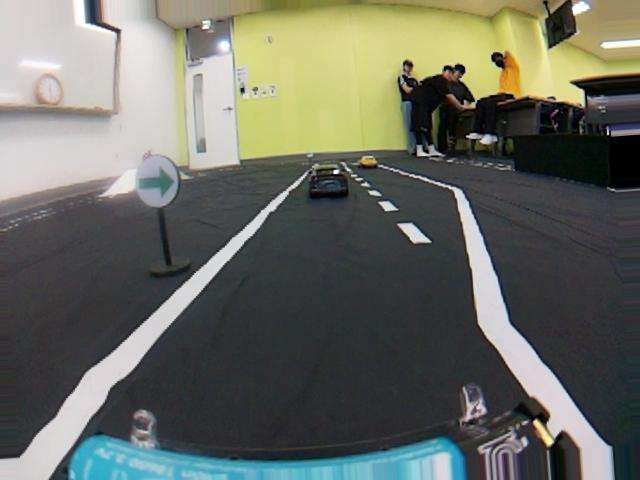car: (306, 162, 350, 199)
sign_right: (132, 151, 184, 211)
straight: (6, 246, 640, 478)
